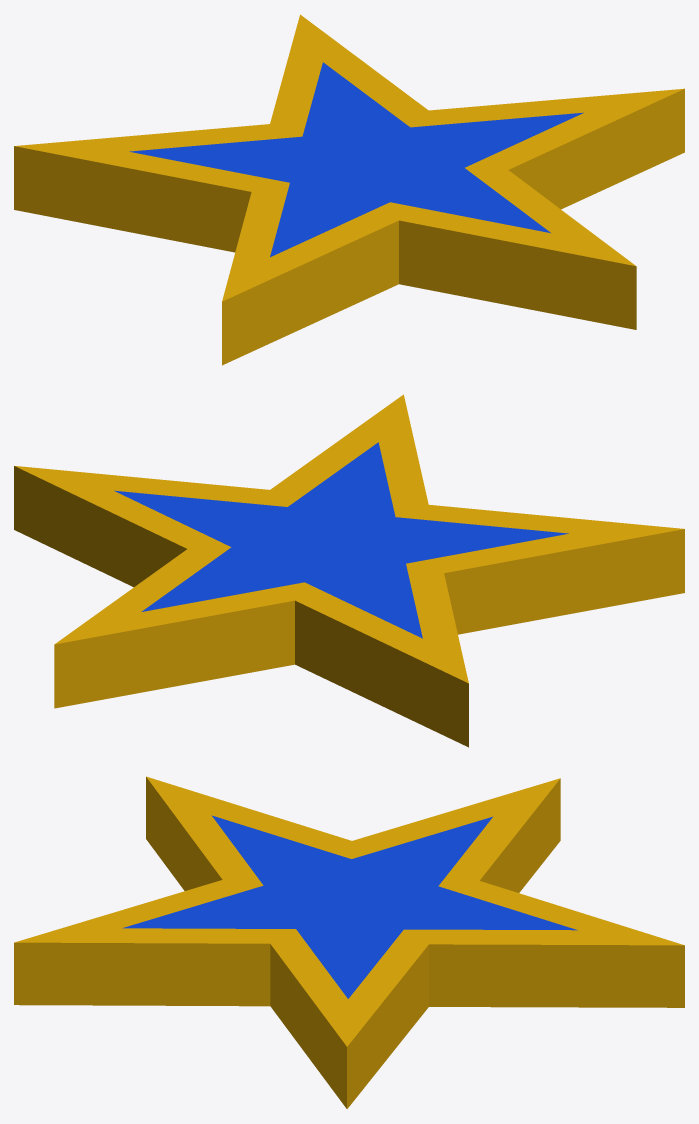
Rendered from RitualRoom_star.fbx.
3 renders of one model, top to bottom at view 1: azimuth 30°, elevation 25°; view 2: azimuth 150°, elevation 25°; view 3: azimuth 270°, elevation 25°, orthographic. The views are drawn at different scales.
Visible parts, largest first — view 1: floor.005; view 2: floor.005; view 3: floor.005.
Part boxes in pixels (x1,y1,x2,y2): floor.005: (14,14,684,365); floor.005: (14,394,684,747); floor.005: (14,776,684,1108).
Size of the model in its own units: 130 by 14 by 136.
